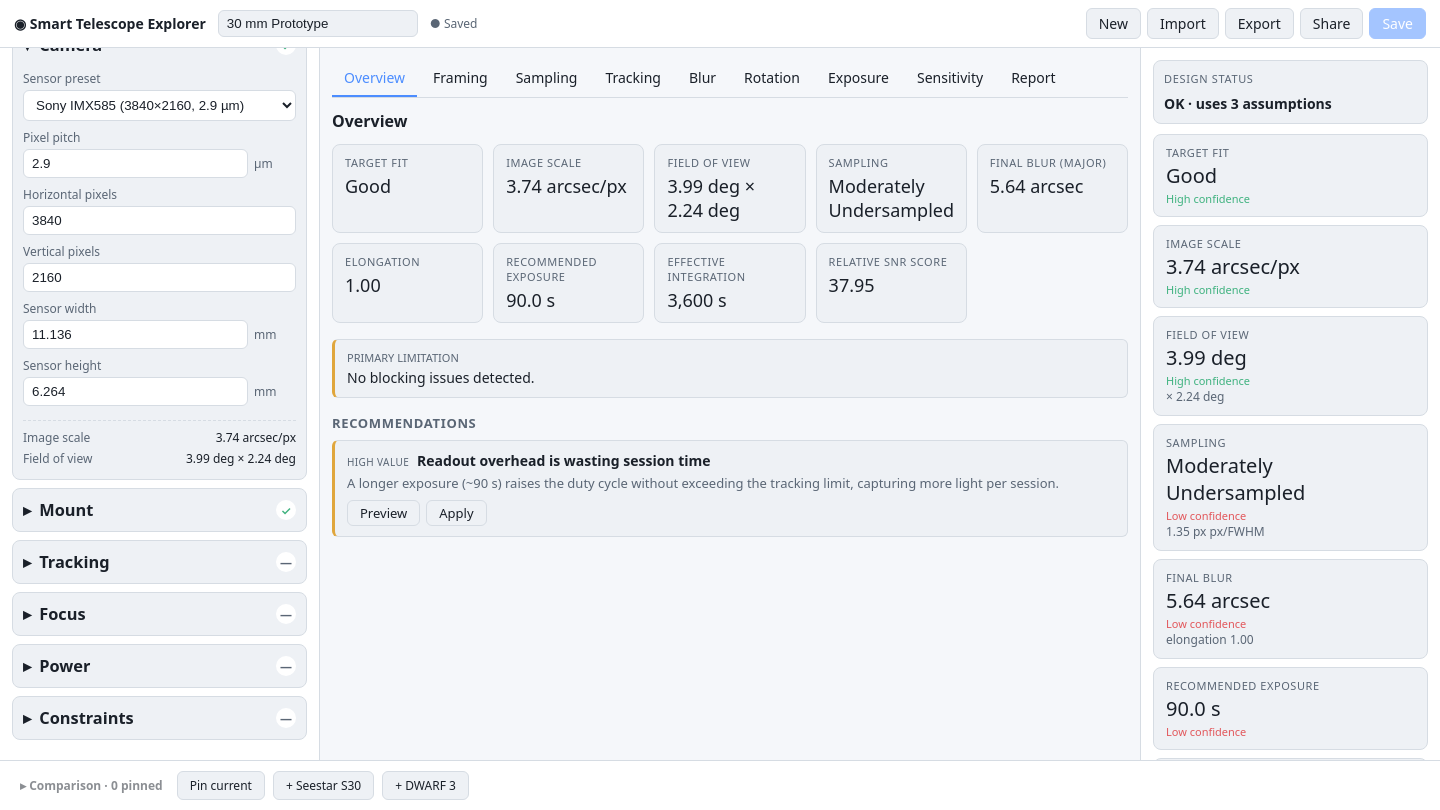
it: power section (#7, v0.4 §33) › adds a load and shows a runtime estimate
(page scrolled)
Step 1. Click the button "▸ Power —" → {"x": 65, "y": 666}, box left=13, top=645, right=306, bottom=687
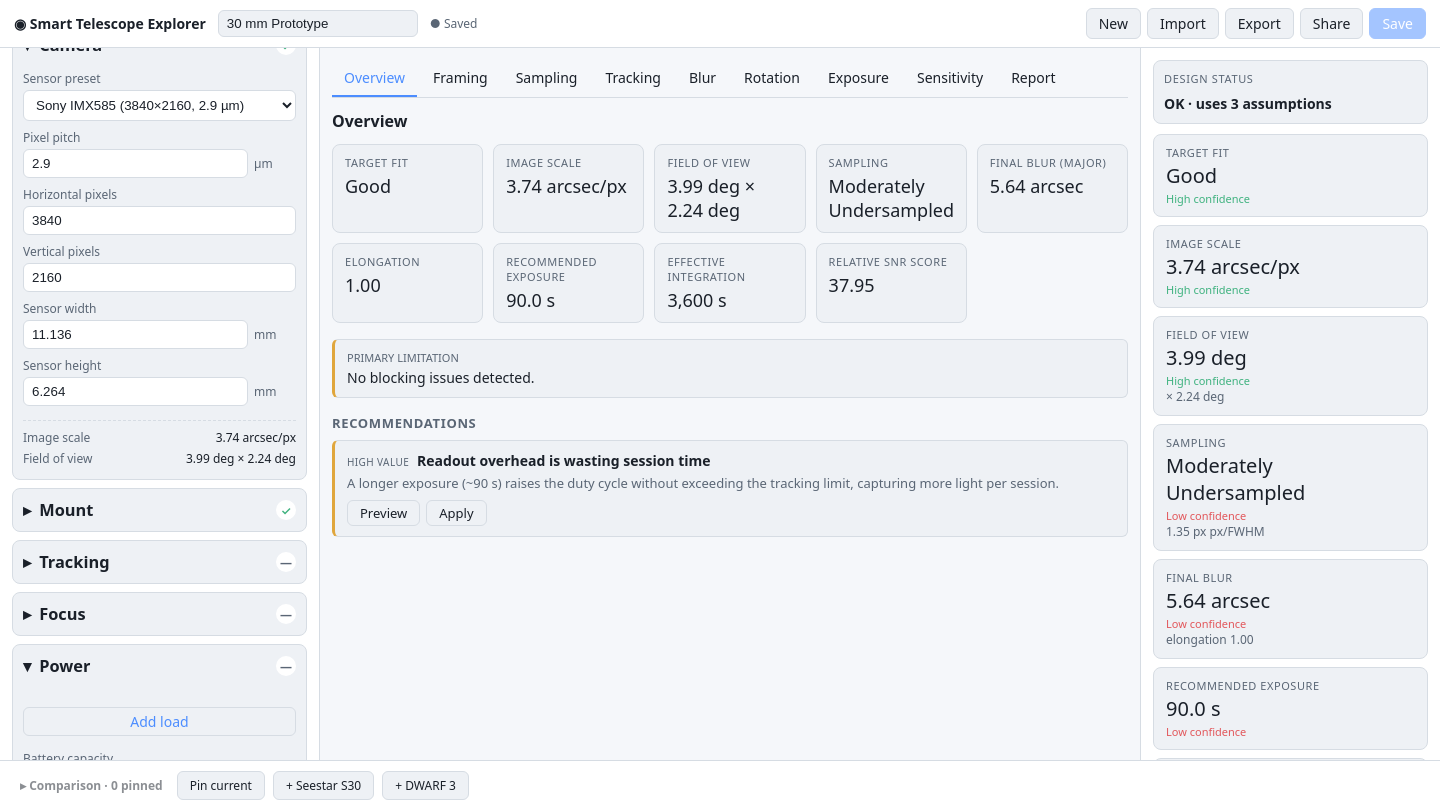
Step 2. Click the button "Add load" → {"x": 160, "y": 722}, box left=23, top=707, right=296, bottom=736
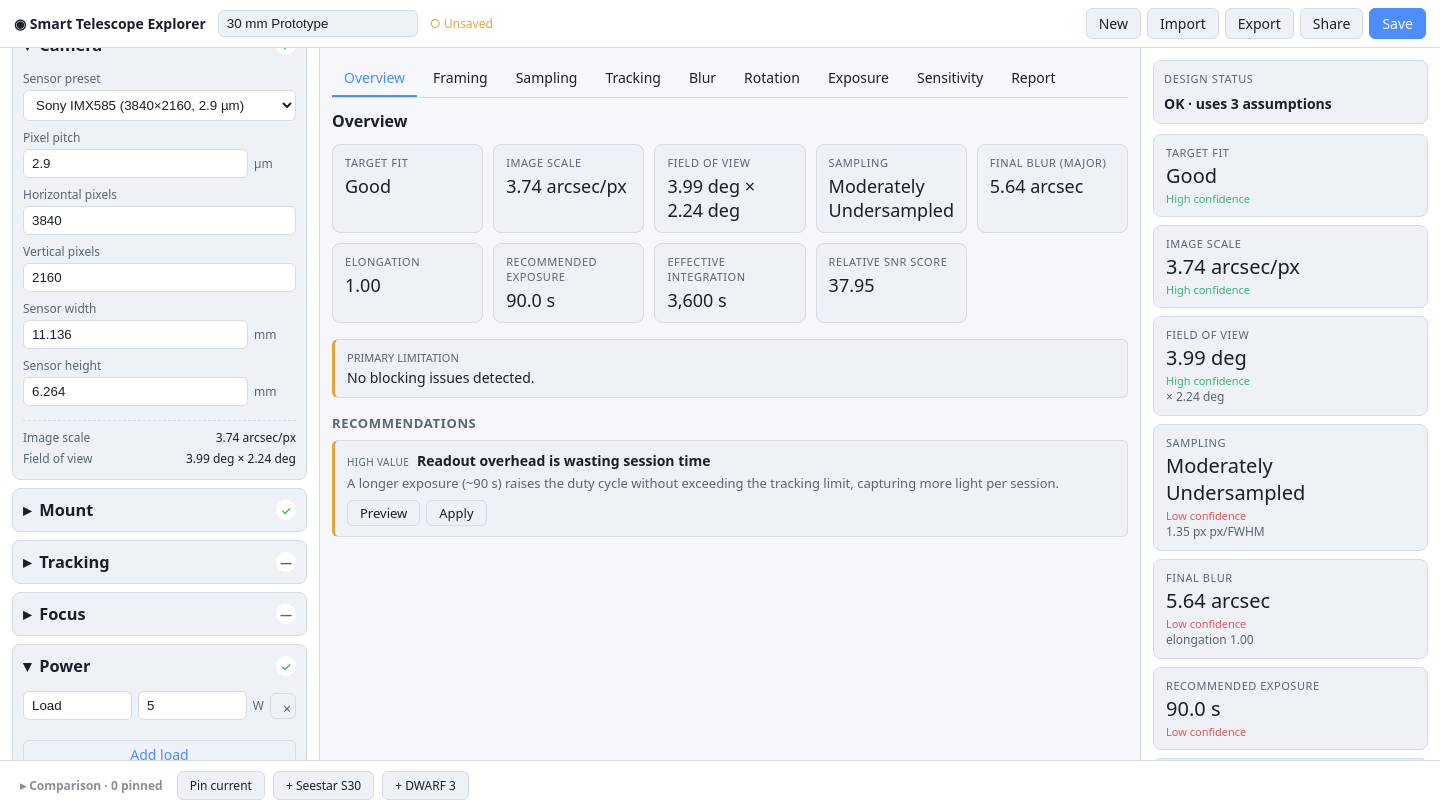
Step 3. Replace the text in the number field named "Load 1 watts" with "10" → {"x": 192, "y": 706}, box left=138, top=691, right=247, bottom=720
(page scrolled)
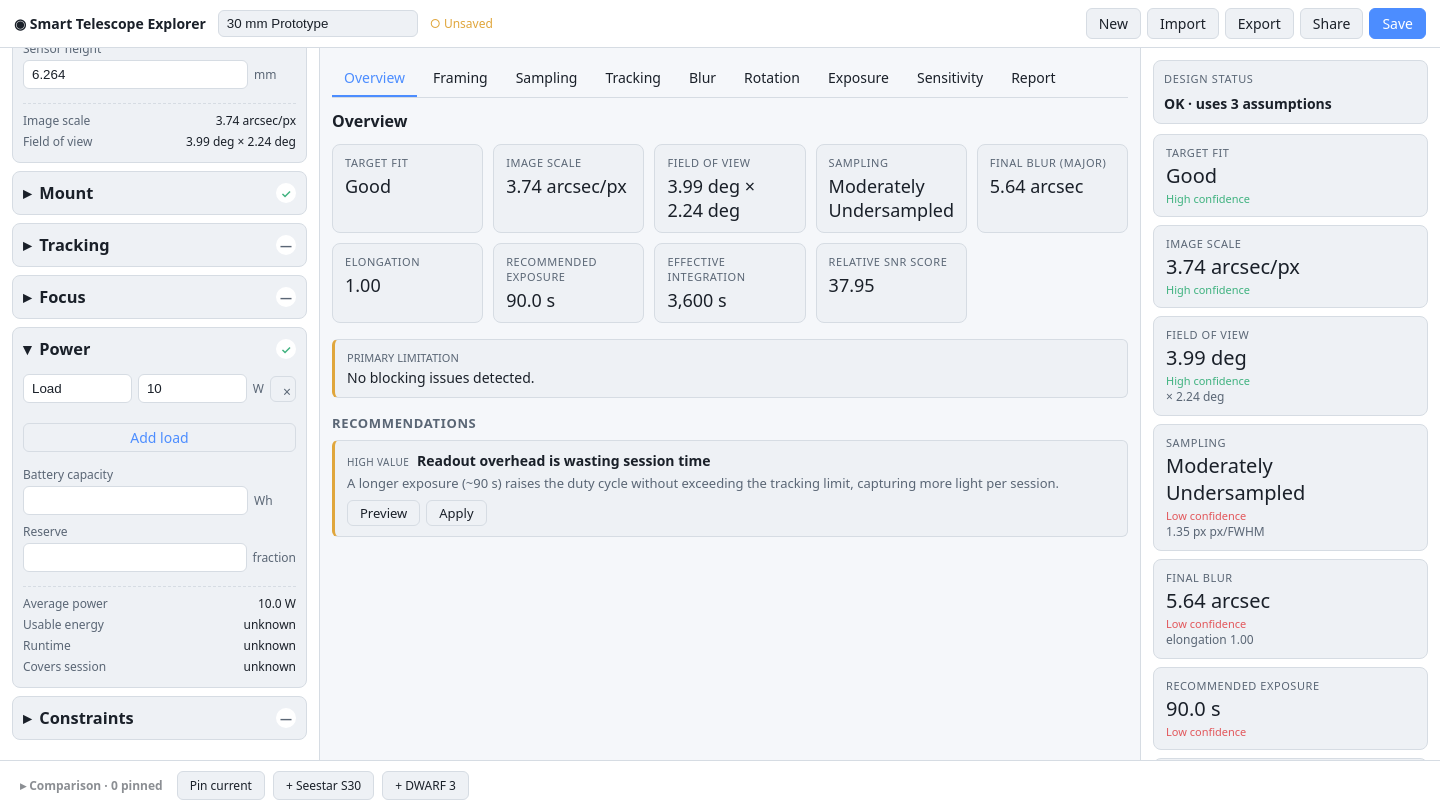
Step 4. Type "100" into the number field labelled "Battery capacity Wh" → {"x": 136, "y": 500}, box left=23, top=486, right=248, bottom=515
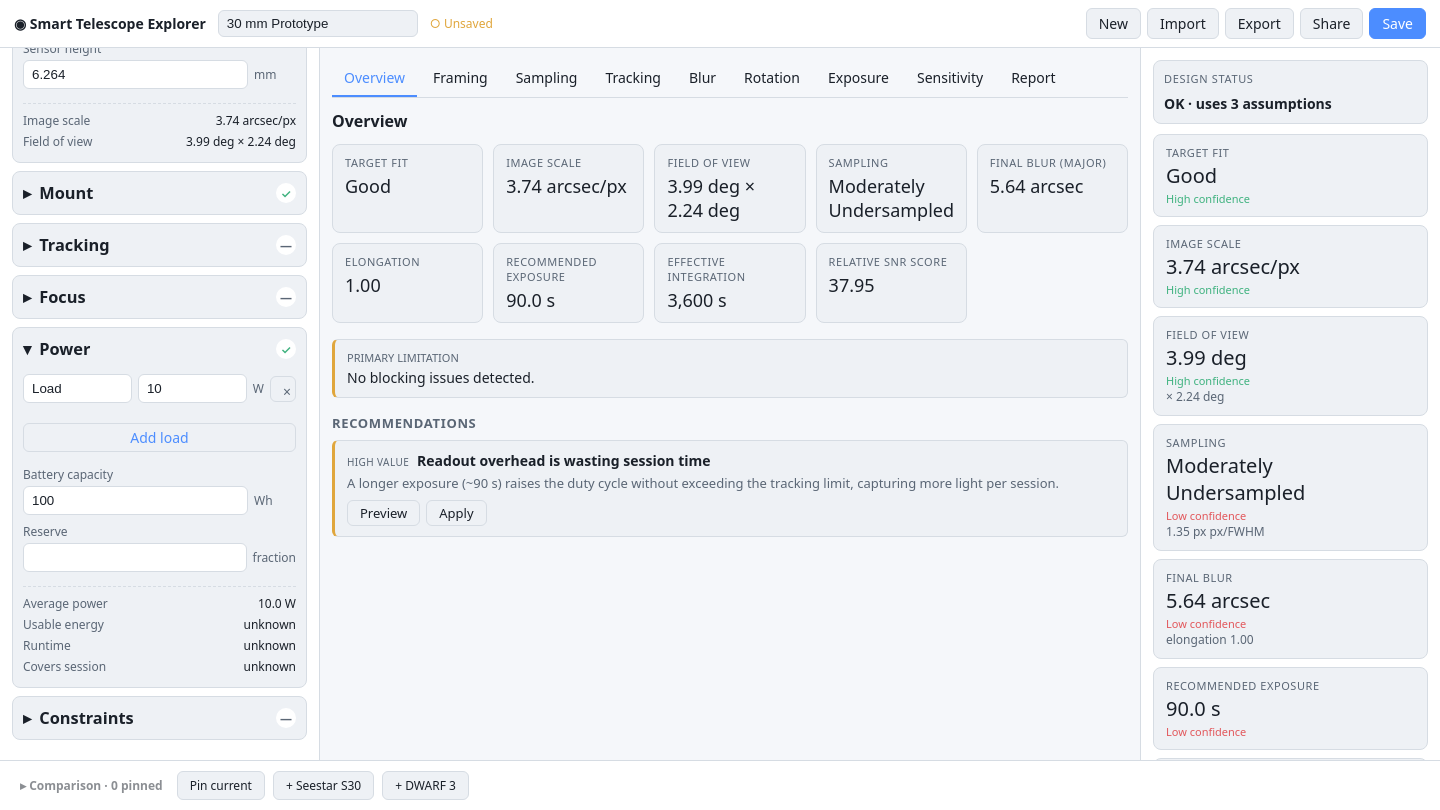
Step 5. Leave the number field labelled "Battery capacity Wh", box left=23, top=486, right=248, bottom=515
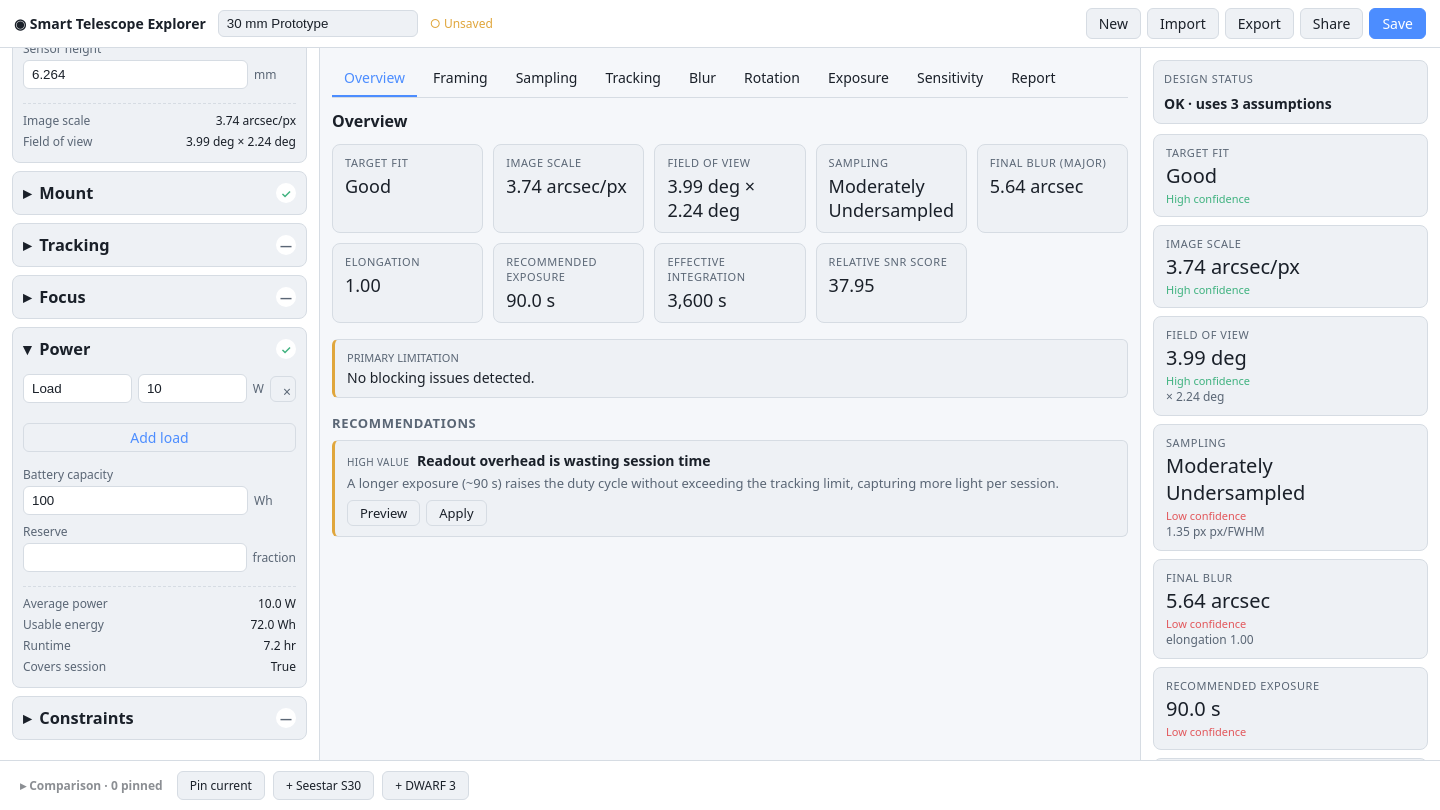
Check: the text "7.2 hr" is shown, box left=264, top=637, right=296, bottom=654
